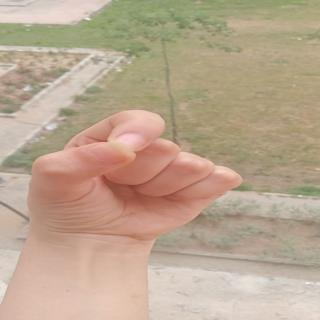FAA: (15, 107, 246, 226)
